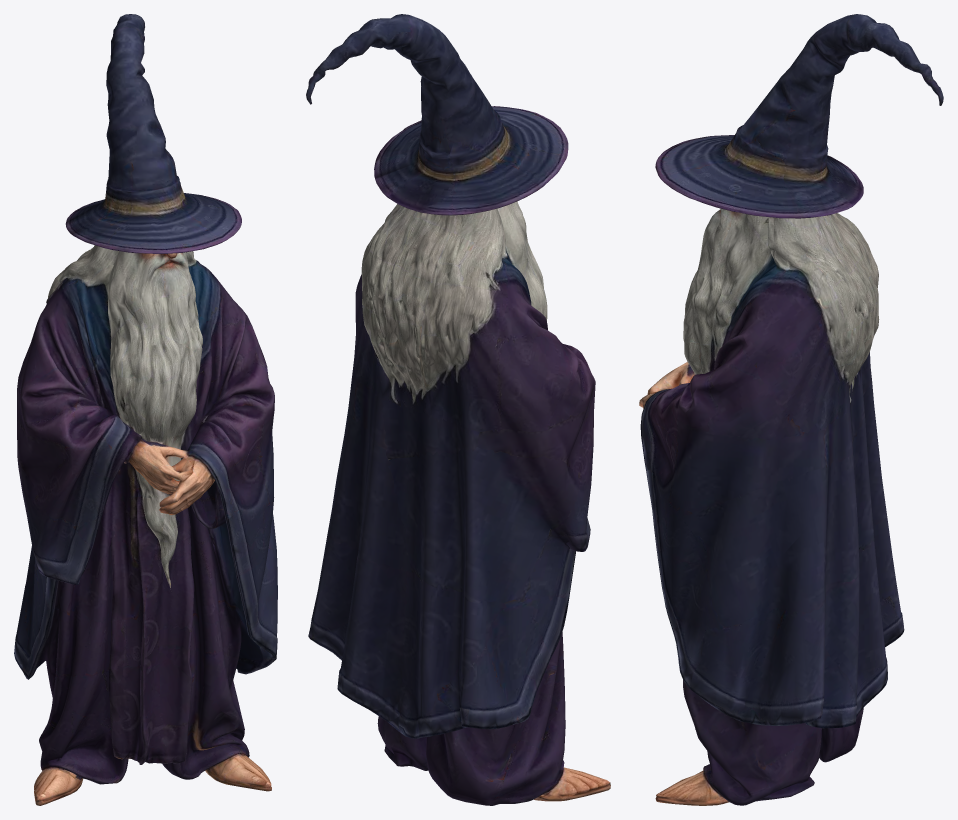
File: wizard_purple.glb
3 renders of one model, left to right at view 1: azimuth 30°, elevation 25°; view 2: azimuth 150°, elevation 25°; view 3: azimuth 270°, elevation 25°, orthographic. The views are drawn at different scales.
Bounding box in the file's own units: 0.6921 × 1.9 × 0.6893.
1 material, 1 textured.
